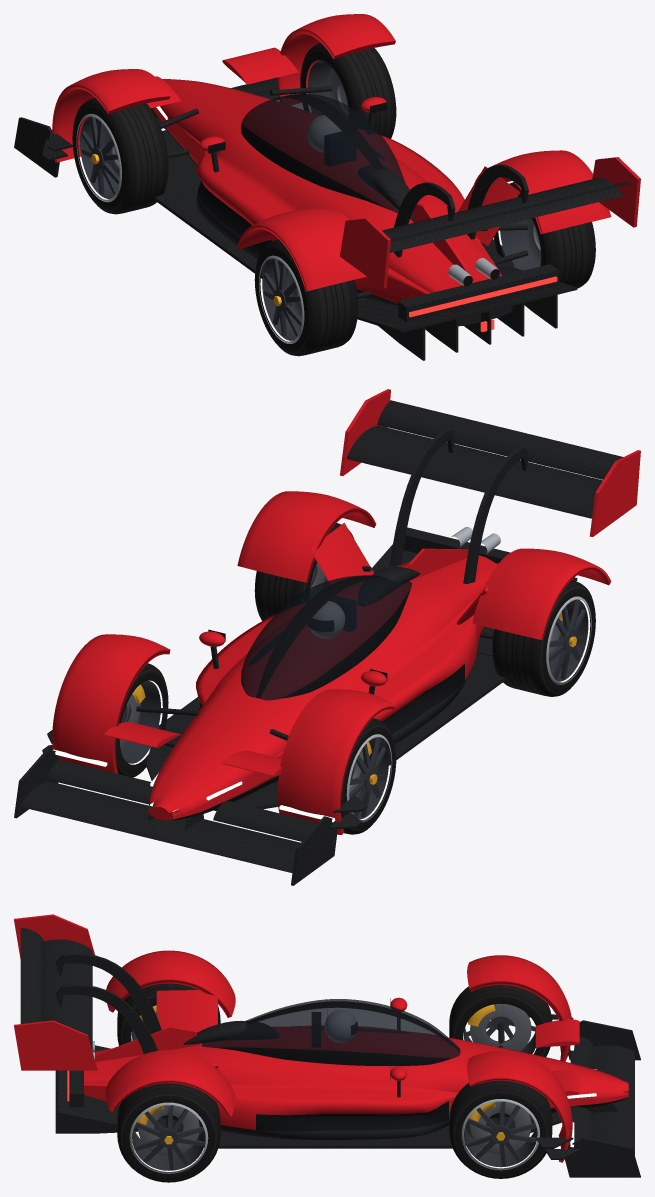
Rendered from rushline-racer.glb.
3 views of the same model, one above another, from view 1: azimuth 30°, elevation 25°; view 2: azimuth 150°, elevation 25°; view 3: azimuth 270°, elevation 25° (orthographic). The views are drawn at different scales.
Parts seen in each view (by area): view 1: body, wheel_fl_spin, wheel_rl_spin, wheel_fr_spin, wheel_rr_spin; view 2: body, wheel_rl_spin, wheel_fl_spin, wheel_fr_spin, wheel_rr_spin; view 3: body, wheel_rr_spin, wheel_fr_spin, wheel_fl_spin, wheel_rl_spin.
Boxes of the visible parts, x1,y1,x2,y2 form: body: [14, 14, 640, 360]; wheel_fl_spin: [72, 98, 168, 214]; wheel_rl_spin: [254, 239, 358, 356]; wheel_fr_spin: [300, 43, 396, 138]; wheel_rr_spin: [493, 182, 595, 288]; body: [14, 389, 640, 885]; wheel_rl_spin: [492, 580, 595, 696]; wheel_fl_spin: [341, 718, 396, 834]; wheel_fr_spin: [116, 663, 168, 777]; wheel_rr_spin: [254, 523, 353, 620]; body: [14, 914, 640, 1177]; wheel_rr_spin: [117, 1083, 220, 1182]; wheel_fr_spin: [449, 1080, 552, 1178]; wheel_fl_spin: [449, 985, 552, 1056]; wheel_rl_spin: [117, 983, 220, 1045].
Bounding box in the file's own units: 2.56 × 1.4 × 5.1.
Materials: 13 (2 with a texture image).
